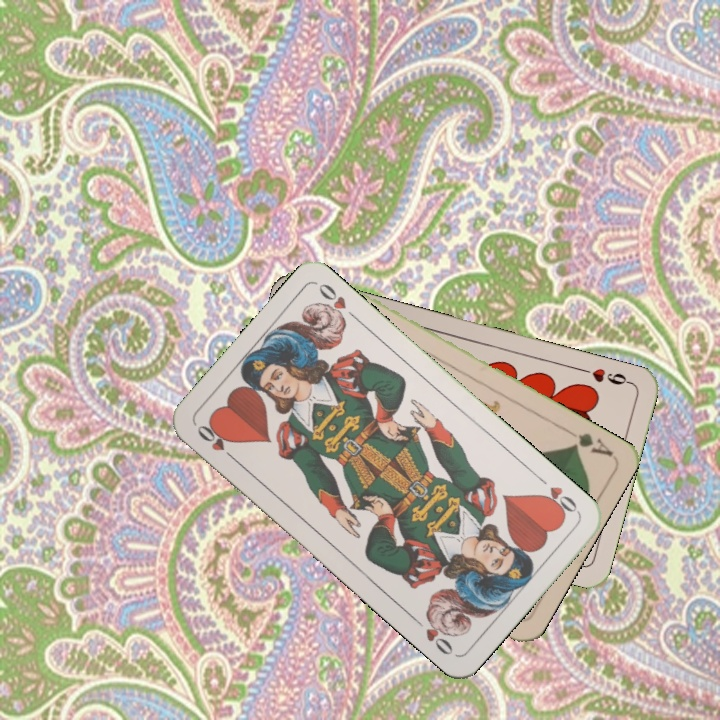GA: (561, 424, 616, 459)
H9: (576, 364, 634, 388)
HO: (533, 472, 581, 519), (192, 420, 240, 465)
